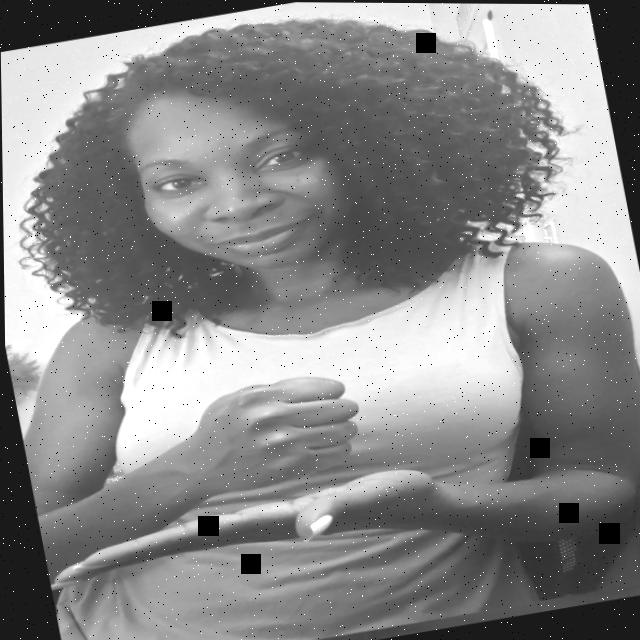Rock: (160, 355, 377, 509)
